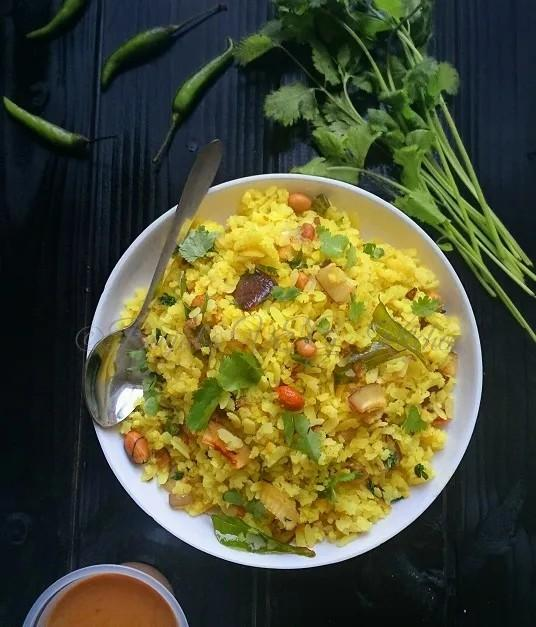Poha: (107, 184, 460, 552)
